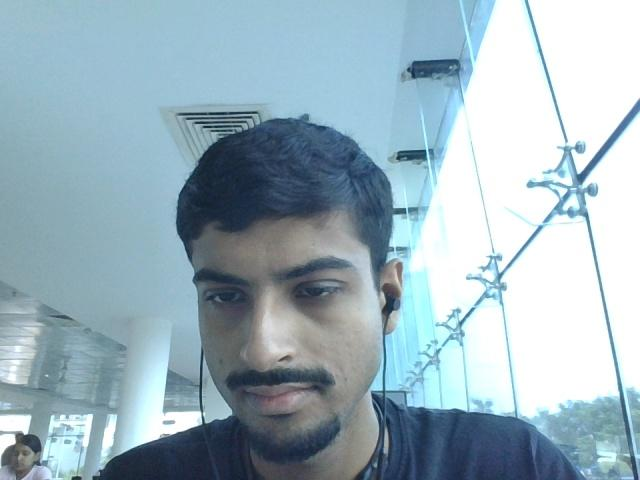nervous: (143, 128, 433, 446)
